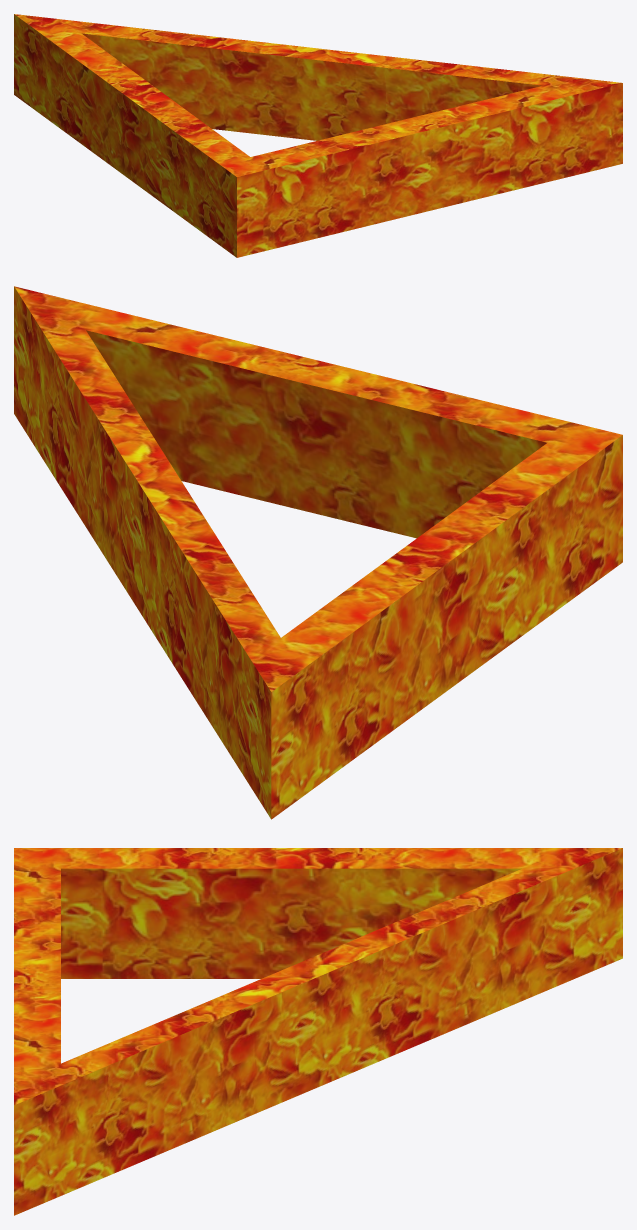
Rendered from TriangleObject.FBX.
3 renders of one model, top to bottom at view 1: azimuth 30°, elevation 25°; view 2: azimuth 150°, elevation 25°; view 3: azimuth 270°, elevation 25°, orthographic. The views are drawn at different scales.
Parts seen in each view (by area): view 1: Triangle; view 2: Triangle; view 3: Triangle.
Part boxes in pixels (<box>): Triangle: <box>14,14,622,257</box>; Triangle: <box>14,286,622,819</box>; Triangle: <box>14,848,622,1215</box>.
Bounding box in the file's own units: 65 × 13 × 65.
1 material, 1 textured.
